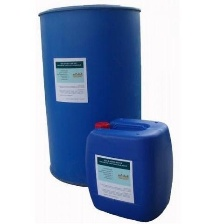cleaning_solution: (83, 115, 176, 222)
